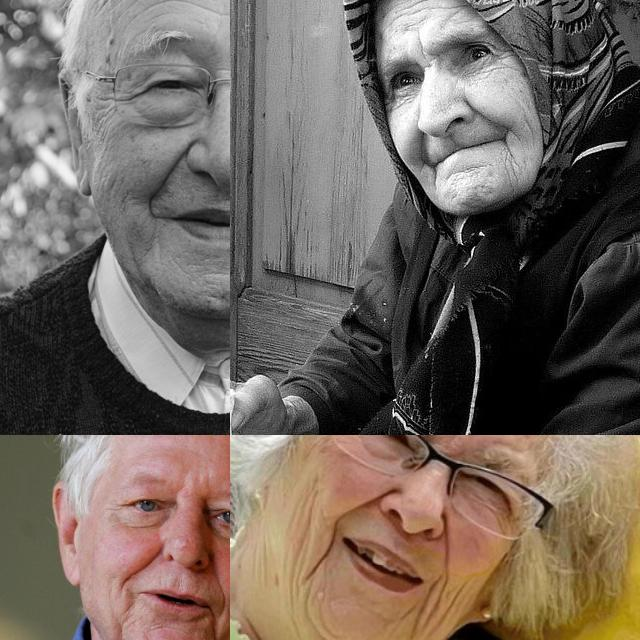chin: (149, 617, 187, 635)
crows_feet: (106, 81, 138, 111), (492, 43, 512, 67), (105, 499, 127, 515)
forehead: (393, 0, 467, 22), (126, 0, 160, 26), (206, 0, 230, 14)
frown_line: (412, 34, 432, 64), (445, 435, 469, 449), (172, 481, 186, 503), (202, 471, 212, 494)
gummy_smile: (150, 147, 188, 206), (344, 472, 388, 520), (433, 518, 463, 582), (462, 95, 500, 131), (126, 544, 160, 580), (205, 548, 227, 596), (407, 128, 427, 162)
masseter: (426, 570, 454, 634), (300, 473, 324, 519)
sad_smile: (311, 517, 337, 579), (407, 586, 427, 640), (498, 140, 518, 182), (422, 160, 442, 190), (120, 596, 140, 626), (205, 611, 225, 640)
